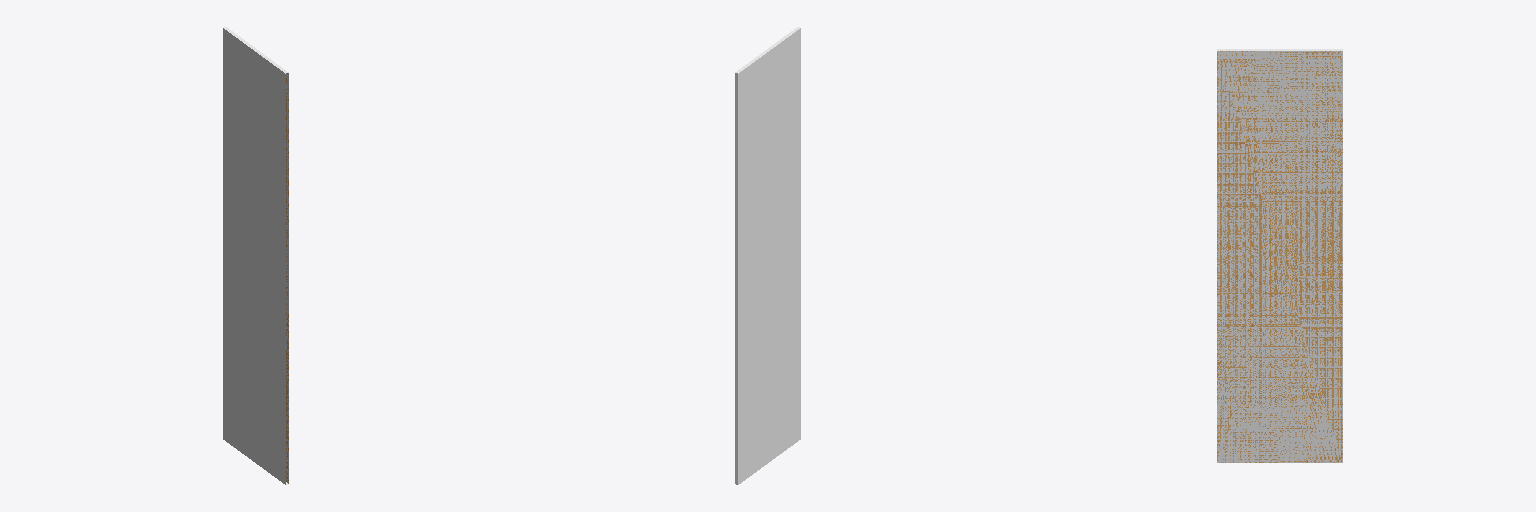
3 renders of one model, left to right at view 1: azimuth 30°, elevation 25°; view 2: azimuth 150°, elevation 25°; view 3: azimuth 270°, elevation 25°, orthographic.
Parts seen in each view (by area): view 1: mesh2/mesh2-geometry#mesh2-geometry; view 2: mesh2/mesh2-geometry#mesh2-geometry; view 3: mesh2/mesh2-geometry#mesh2-geometry.
Boxes of the visible parts, <box> form: mesh2/mesh2-geometry#mesh2-geometry: <box>223,27,288,484</box>; mesh2/mesh2-geometry#mesh2-geometry: <box>735,27,800,484</box>; mesh2/mesh2-geometry#mesh2-geometry: <box>1217,49,1342,462</box>.
Bounding box in the file's own units: 0.0154 × 1.7 × 0.4709.
2 materials, 1 textured.